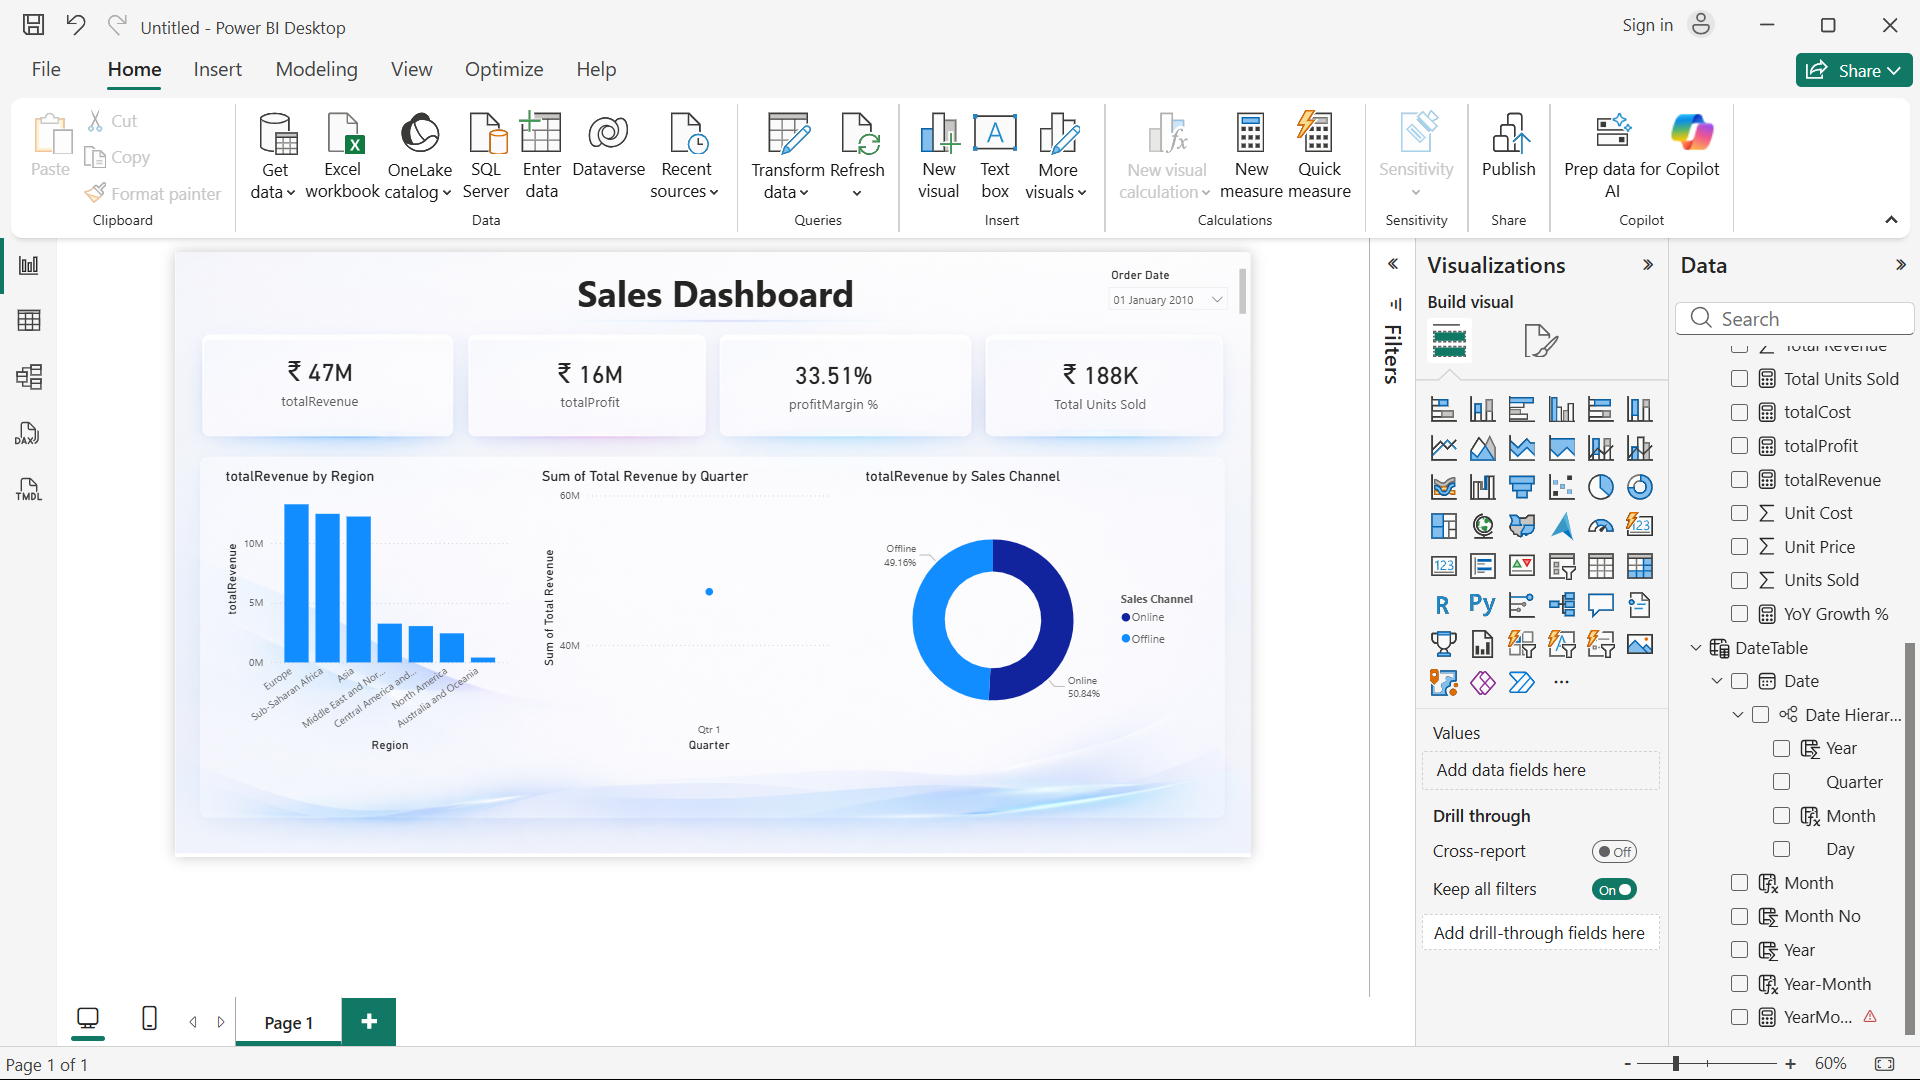

The dashboard page shown, as its layout file describes it:
{"tool":"powerbi","page":{"name":"Page 1","canvas":[1280,720],"ordinal":0},"visuals":[{"type":"card","fields":{"Values":["100000 Sales Records.totalRevenue"]},"box":[15,98.3,315,108.3],"z":0},{"type":"card","fields":{"Values":["100000 Sales Records.totalProfit"]},"box":[348.3,100,291.7,108.3],"z":1000},{"type":"card","fields":{"Values":["100000 Sales Records.profitMargin %"]},"box":[673.3,101.7,221.7,108.3],"z":2000},{"type":"card","fields":{"Values":["100000 Sales Records.Total Units Sold"]},"box":[968.3,101.7,266.7,108.3],"z":3000},{"type":"clusteredColumnChart","fields":{"Category":["100000 Sales Records.Region"],"Y":["100000 Sales Records.totalRevenue"]},"box":[55,256.7,346.7,343.3],"z":4000},{"type":"lineChart","fields":{"Y":["Sum(100000 Sales Records.Total Revenue)"],"Category":["DateTable.Date.Variation.Date Hierarchy.Quarter"]},"box":[431.7,256.7,353.3,343.3],"z":5000},{"type":"donutChart","fields":{"Category":["100000 Sales Records.Sales Channel"],"Y":["100000 Sales Records.totalRevenue"]},"box":[816.7,256.7,418.3,343.3],"z":6000},{"type":"textbox","box":[15,15,1265,65],"z":7000},{"type":"slicer","fields":{"Values":["DateTable.Date.Variation.Date Hierarchy.Month"]},"box":[1101.7,13.3,161.7,71.7],"z":7001}]}

Visuals, with their boxes on the page's 1280x720 design canvas (x1, y1, x2, y2). These are canvas units, not pixel positions in the 1920x1080 screenshot, which may show the page scaled, cropped or inside an application window:
card - 100000 Sales Records.totalRevenue: (15,98,330,207)
card - 100000 Sales Records.totalProfit: (348,100,640,208)
card - 100000 Sales Records.profitMargin %: (673,102,895,210)
card - 100000 Sales Records.Total Units Sold: (968,102,1235,210)
clusteredColumnChart - 100000 Sales Records.Region x 100000 Sales Records.totalRevenue: (55,257,402,600)
lineChart - Sum(100000 Sales Records.Total Revenue) x DateTable.Date.Variation.Date Hierarchy.Quarter: (432,257,785,600)
donutChart - 100000 Sales Records.Sales Channel x 100000 Sales Records.totalRevenue: (817,257,1235,600)
textbox: (15,15,1280,80)
slicer - DateTable.Date.Variation.Date Hierarchy.Month: (1102,13,1263,85)
